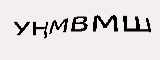Д: (58, 25, 83, 54)
И: (112, 23, 127, 44)
Т: (78, 28, 97, 49), (97, 26, 115, 46)
Ф: (36, 19, 59, 49)
